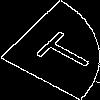T: (24, 25, 100, 77)
